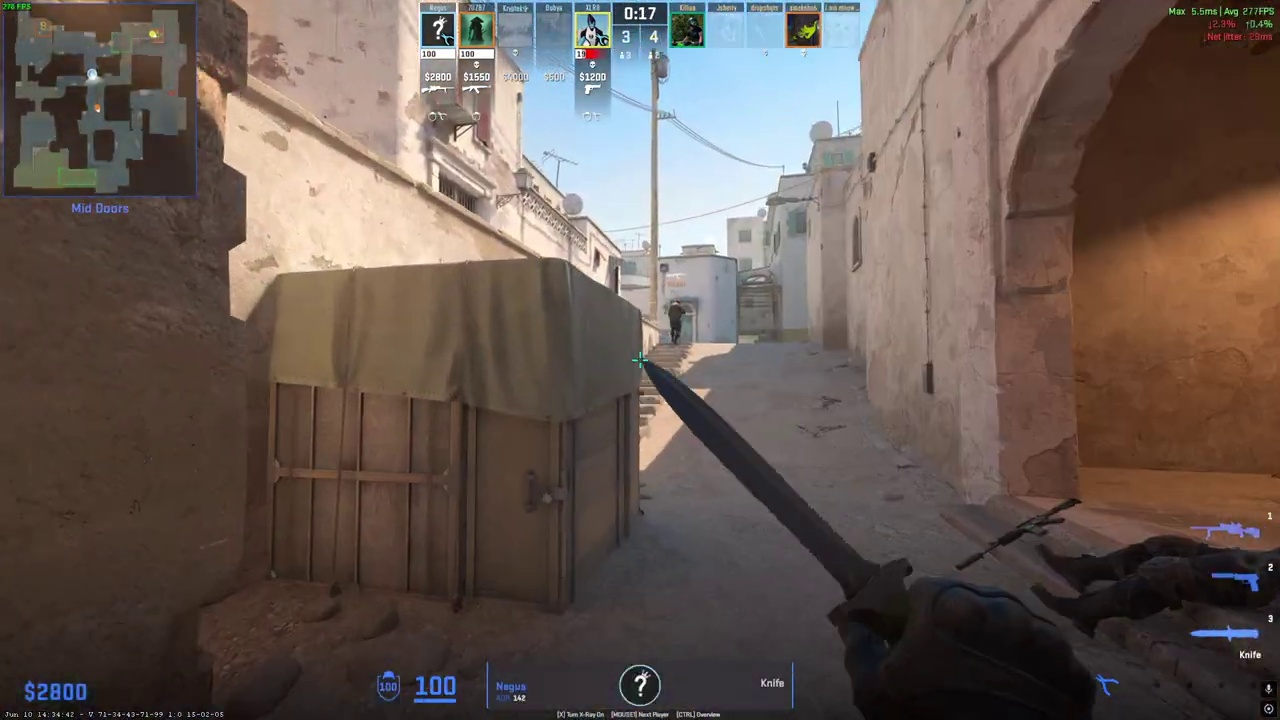CT: (668, 300, 685, 345)
